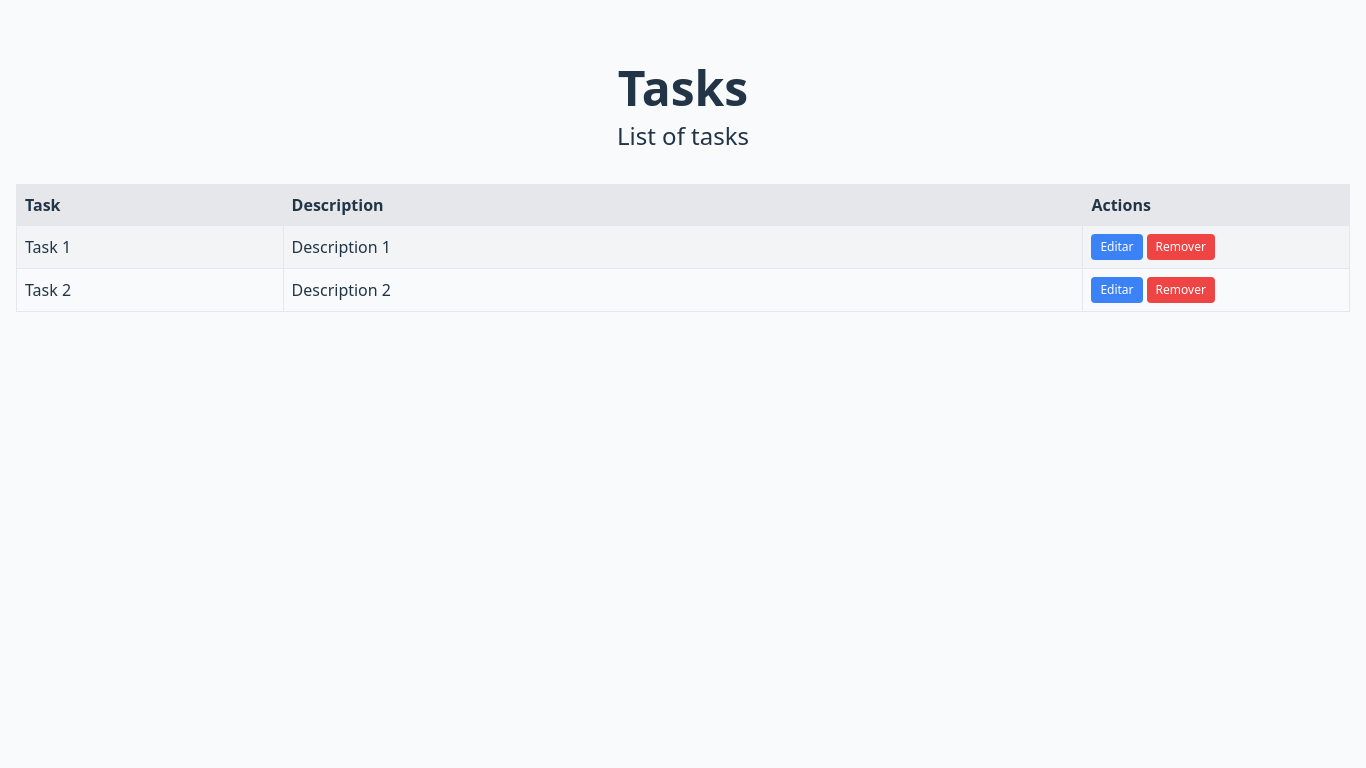
Test: Tasks Component - Delete Modal › should show confirmation modal when delete button is clicked
The width and height of the screenshot is (1366, 768).
Expected: the text "Task 1" is shown, [16, 226, 283, 268]
Click delete button for first task
Click the button "Remover" in the row of "Task 1": (1181,247) [1147, 234, 1215, 260]
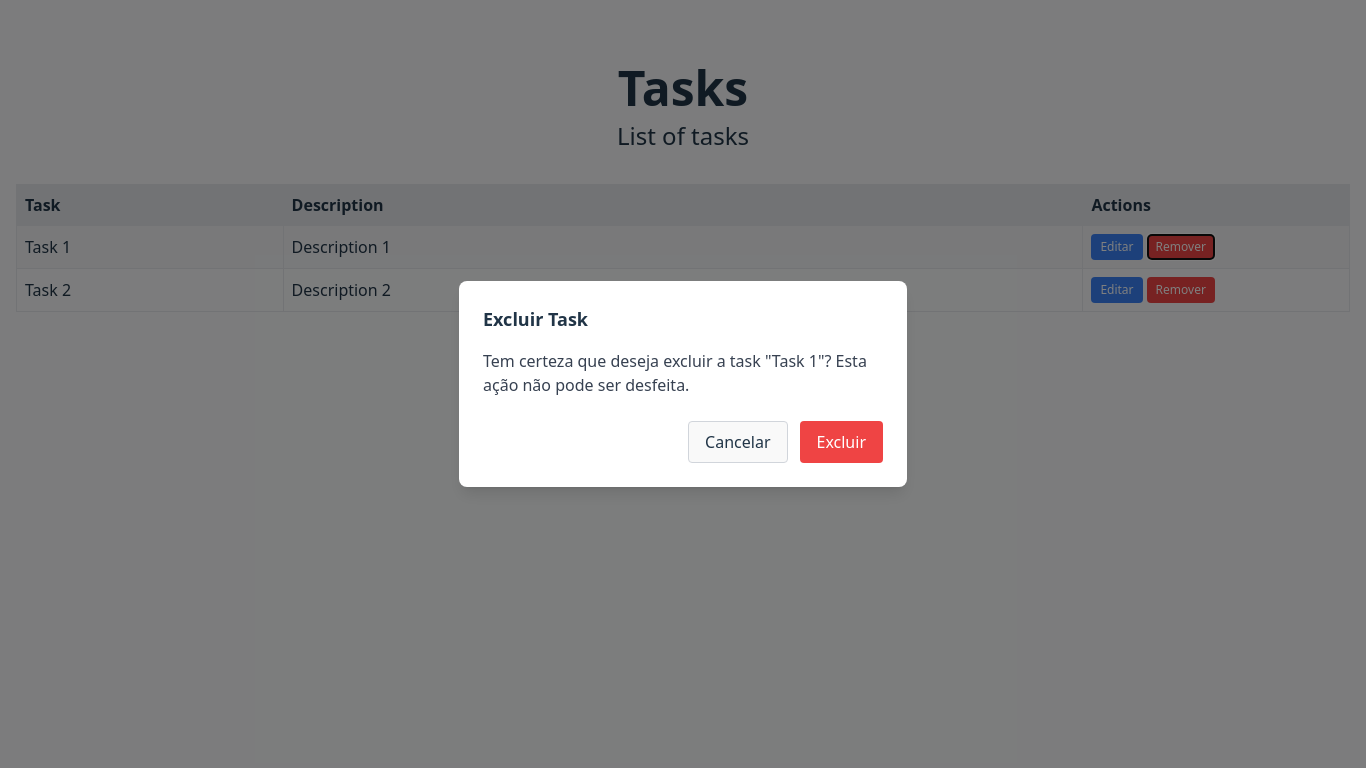
Now the heading "Excluir Task" is shown, box [483, 307, 588, 331]
Now the text "Tem certeza que deseja excluir a task \"Task 1\"" is shown, box [483, 350, 867, 396]
Now the button "Excluir" is shown, box [800, 421, 883, 463]
